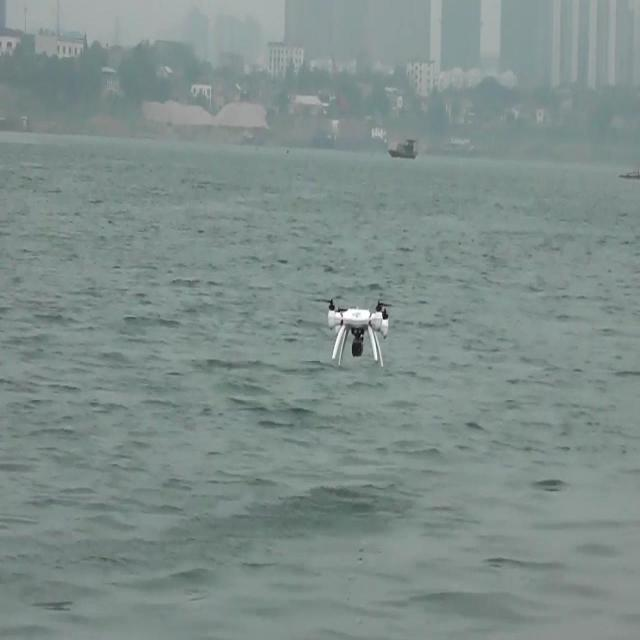UAV: (328, 299, 388, 367)
